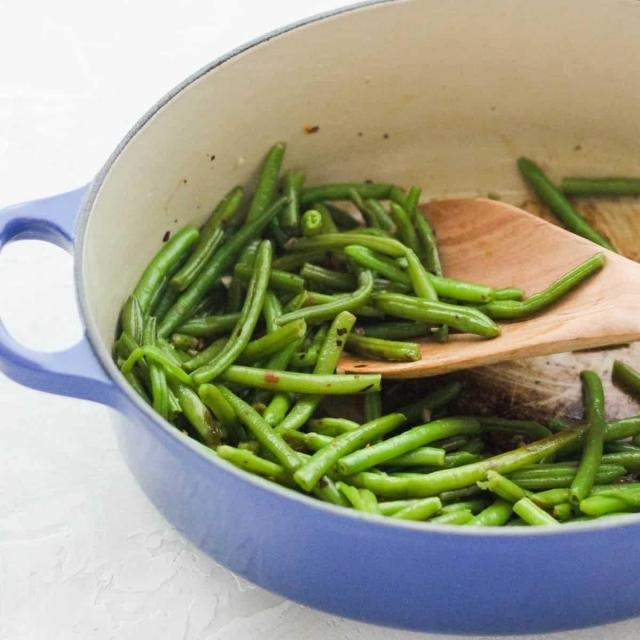Beans: (115, 133, 639, 528)
